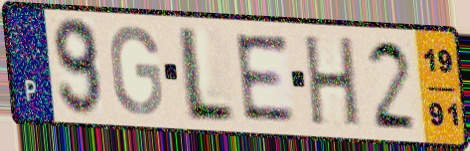2: (364, 37, 418, 133)
9: (49, 14, 106, 120)
E: (231, 32, 299, 123)
G: (107, 23, 165, 118)
H: (303, 33, 362, 131)
L: (178, 23, 237, 126)
